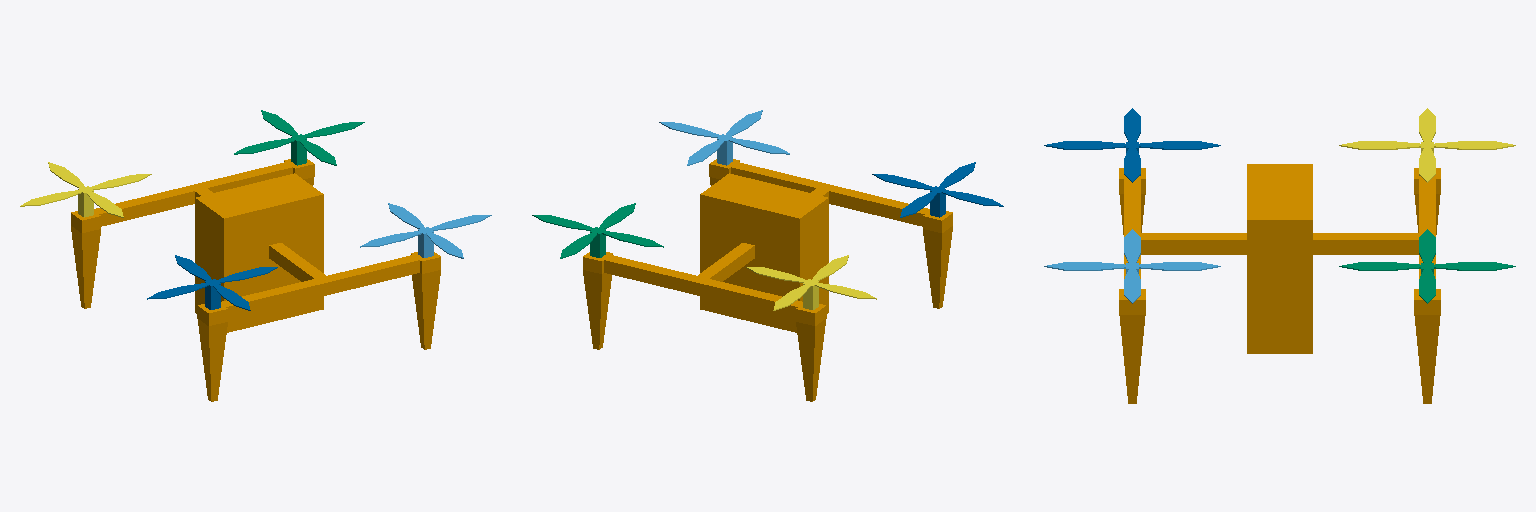
robot.urdf — quadrotor:
<?xml version="1.0"?>
<robot name="quadrotor">

  <!-- main body -->
  <link name="base_link">
    <visual>
      <origin xyz="0 0 0" rpy="0 0 0"/>
      <geometry>
        <mesh filename="stl/simplified_boy.stl"/>
      </geometry>
    </visual>
    <collision>
      <origin xyz="0 0 0" rpy="0 0 0"/>
      <geometry>
        <mesh filename="stl/simplified_boy.stl"/>
      </geometry>
    </collision>
    <inertial>
      <mass value="3.833"/>
      <inertia ixx="0.084" iyy="0.071" izz="0.118" ixy="0.009" ixz="0" iyz="0.000"/>
      <origin xyz="-0.01 -0.00 -0.007" rpy="0 0 0"/>
    </inertial>
  </link>

  <!-- rotor links -->
  <link name="rotor_1">
    <visual>
      <origin xyz="0 0 0" rpy="0 0 0"/>
      <geometry>
        <mesh filename="stl/simplified_motor.stl"/>
      </geometry>
    </visual>
    <collision>
      <origin xyz="0 0 0" rpy="0 0 0"/>
      <geometry>
        <mesh filename="stl/simplified_motor.stl"/>
      </geometry>
    </collision>
    <inertial>
      <mass value="0.0001"/>
      <inertia ixx="0.0000001" iyy="0.0000001" izz="0.0000001" ixy="0" ixz="0" iyz="0"/>
      <origin xyz="0 0 0" rpy="0 0 0"/>
    </inertial>
  </link>

  <link name="rotor_2">
    <visual>
      <origin xyz="0 0 0" rpy="0 0 0"/>
      <geometry>
        <mesh filename="stl/simplified_motor.stl"/>
      </geometry>
    </visual>
    <collision>
      <origin xyz="0 0 0" rpy="0 0 0"/>
      <geometry>
        <mesh filename="stl/simplified_motor.stl"/>
      </geometry>
    </collision>
    <inertial>
      <mass value="0.0001"/>
      <inertia ixx="0.0000001" iyy="0.0000001" izz="0.0000001" ixy="0" ixz="0" iyz="0"/>
      <origin xyz="0 0 0" rpy="0 0 0"/>
    </inertial>
  </link>

  <link name="rotor_3">
    <visual>
      <origin xyz="0 0 0" rpy="0 0 0"/>
      <geometry>
        <mesh filename="stl/simplified_motor.stl"/>
      </geometry>
    </visual>
    <collision>
      <origin xyz="0 0 0" rpy="0 0 0"/>
      <geometry>
        <mesh filename="stl/simplified_motor.stl"/>
      </geometry>
    </collision>
    <inertial>
      <mass value="0.0001"/>
      <inertia ixx="0.0000001" iyy="0.0000001" izz="0.0000001" ixy="0" ixz="0" iyz="0"/>
      <origin xyz="0 0 0" rpy="0 0 0"/>
    </inertial>
  </link>

  <link name="rotor_4">
    <visual>
      <origin xyz="0 0 0" rpy="0 0 0"/>
      <geometry>
        <mesh filename="stl/simplified_motor.stl"/>
      </geometry>
    </visual>
    <collision>
      <origin xyz="0 0 0" rpy="0 0 0"/>
      <geometry>
        <mesh filename="stl/simplified_motor.stl"/>
      </geometry>
    </collision>
    <inertial>
      <mass value="0.0001"/>
      <inertia ixx="0.0000001" iyy="0.0000001" izz="0.0000001" ixy="0" ixz="0" iyz="0"/>
      <origin xyz="0 0 0" rpy="0 0 0"/>
    </inertial>
  </link>

  <!-- rotors to base -->
  <joint name="rotor_1_joint" type="continuous">
    <parent link="base_link"/>
    <child link="rotor_1"/>
    <origin xyz="0.208 -0.22465 0.025" rpy="0 0 0"/>
    <axis xyz="0 0 1"/>
    <limit effort="0.01" velocity="1000"/>
  </joint>

  <joint name="rotor_2_joint" type="continuous">
    <parent link="base_link"/>
    <child link="rotor_2"/>
    <origin xyz="0.208 0.22465 0.025" rpy="0 0 0"/>
    <axis xyz="0 0 1"/>
    <limit effort="0.01" velocity="1000"/>
  </joint>

  <joint name="rotor_3_joint" type="continuous">
    <parent link="base_link"/>
    <child link="rotor_3"/>
    <origin xyz="-0.228 0.22465 0.025" rpy="0 0 0"/>
    <axis xyz="0 0 1"/>
    <limit effort="0.01" velocity="1000"/>
  </joint>

  <joint name="rotor_4_joint" type="continuous">
    <parent link="base_link"/>
    <child link="rotor_4"/>
    <origin xyz="-0.228 -0.22465 0.025" rpy="0 0 0"/>
    <axis xyz="0 0 1"/>
    <limit effort="0.01" velocity="1000"/>
  </joint>

</robot>

--- Facts derived from the render (not from the file) ---
The picture shows the robot from 3 angles, left to right: view 1: azimuth 30°, elevation 25°; view 2: azimuth 150°, elevation 25°; view 3: azimuth 270°, elevation 25°; orthographic projection.
Model quadrotor with 5 links and 4 joints (4 continuous), rooted at base_link, posed every joint at zero.
Visible links, largest first — view 1: base_link, rotor_1, rotor_3, rotor_2, rotor_4; view 2: base_link, rotor_2, rotor_4, rotor_1, rotor_3; view 3: base_link, rotor_3, rotor_4, rotor_1, rotor_2.
Link boxes in pixels (<box>): base_link: <box>71,159,440,401</box>; rotor_1: <box>360,203,491,258</box>; rotor_3: <box>20,162,151,217</box>; rotor_2: <box>234,110,364,165</box>; rotor_4: <box>147,255,277,310</box>; base_link: <box>583,159,952,401</box>; rotor_2: <box>532,203,663,258</box>; rotor_4: <box>872,162,1003,217</box>; rotor_1: <box>659,110,789,165</box>; rotor_3: <box>746,255,876,310</box>; base_link: <box>1119,164,1440,403</box>; rotor_3: <box>1339,108,1515,182</box>; rotor_4: <box>1044,108,1220,182</box>; rotor_1: <box>1044,229,1220,303</box>; rotor_2: <box>1339,229,1515,303</box>.
Size in the robot's own frame: 0.7042 by 0.7175 by 0.2555 metres.
5 mesh visuals loaded from 2 distinct referenced files (2 binary STL).
